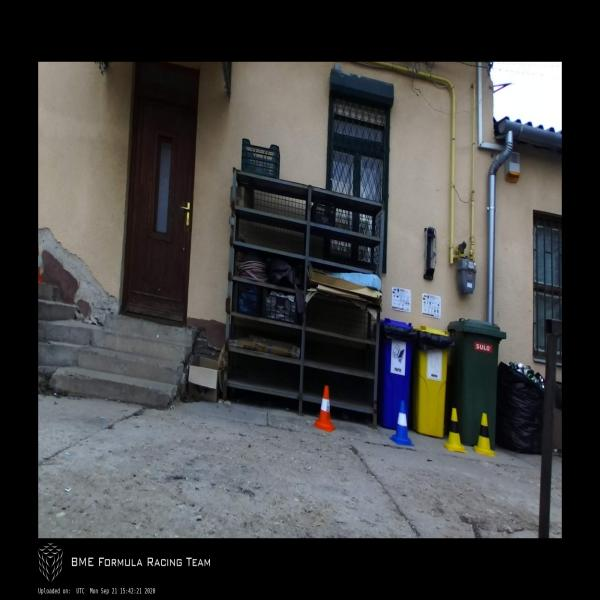blue_cone: (389, 399, 415, 446)
orange_cone: (313, 386, 335, 432)
yellow_cone: (444, 408, 467, 454), (473, 413, 496, 457)
